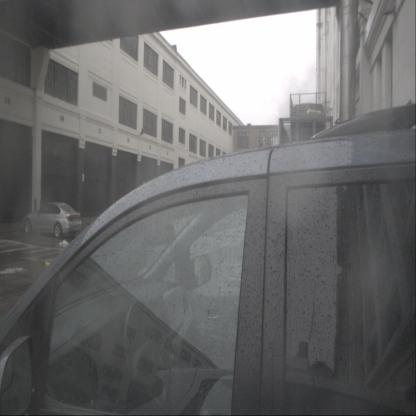vehicle-car: (0, 101, 416, 416), (23, 201, 82, 239)
